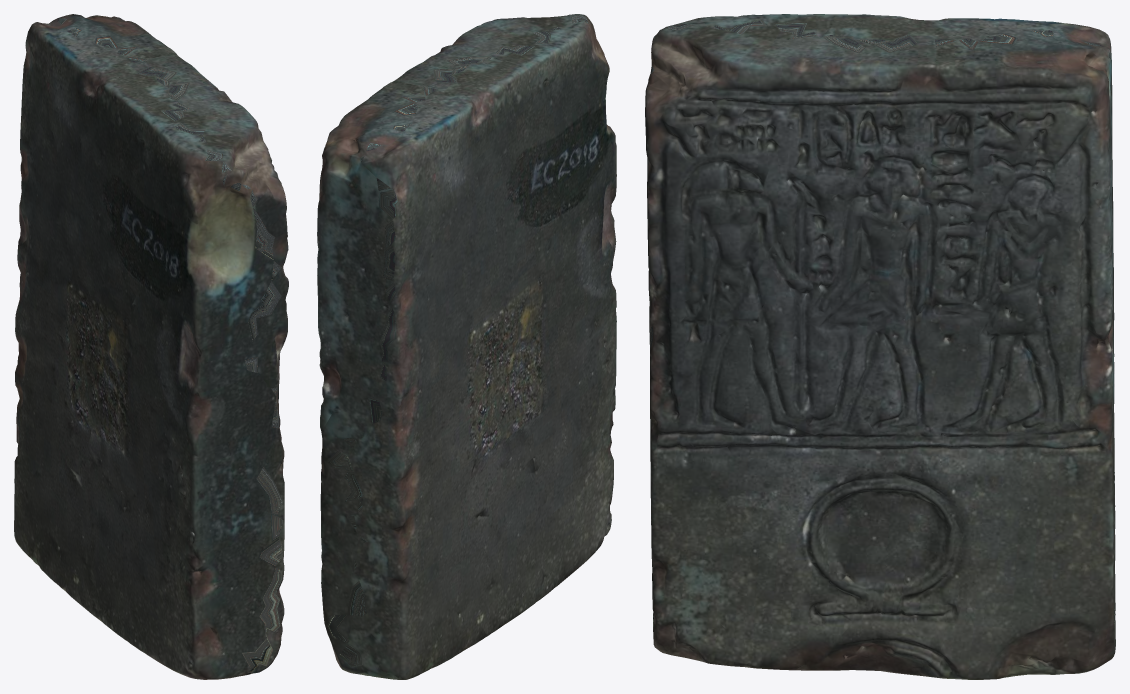
The model's file is paleta-escriba.glb.
The picture shows the model from 3 angles, left to right: view 1: azimuth 30°, elevation 25°; view 2: azimuth 150°, elevation 25°; view 3: azimuth 270°, elevation 25°; orthographic projection. The views are drawn at different scales.
Visible parts, largest first — view 1: Object_2; view 2: Object_2; view 3: Object_2.
Boxes of the visible parts, x1,y1,x2,y2 form: Object_2: [14, 14, 288, 679]; Object_2: [317, 14, 616, 679]; Object_2: [645, 14, 1115, 679].
Bounding box in the file's own units: 20.39 × 96.96 × 66.15.
1 material, 1 textured.
